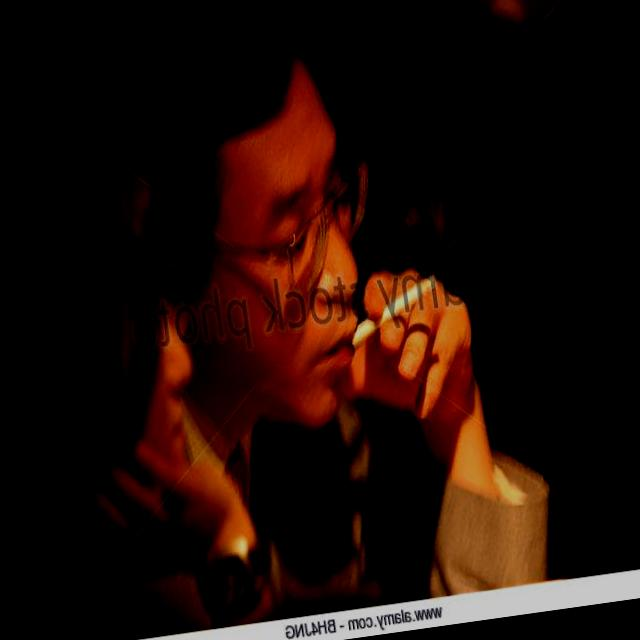smoke: (332, 248, 461, 388)
